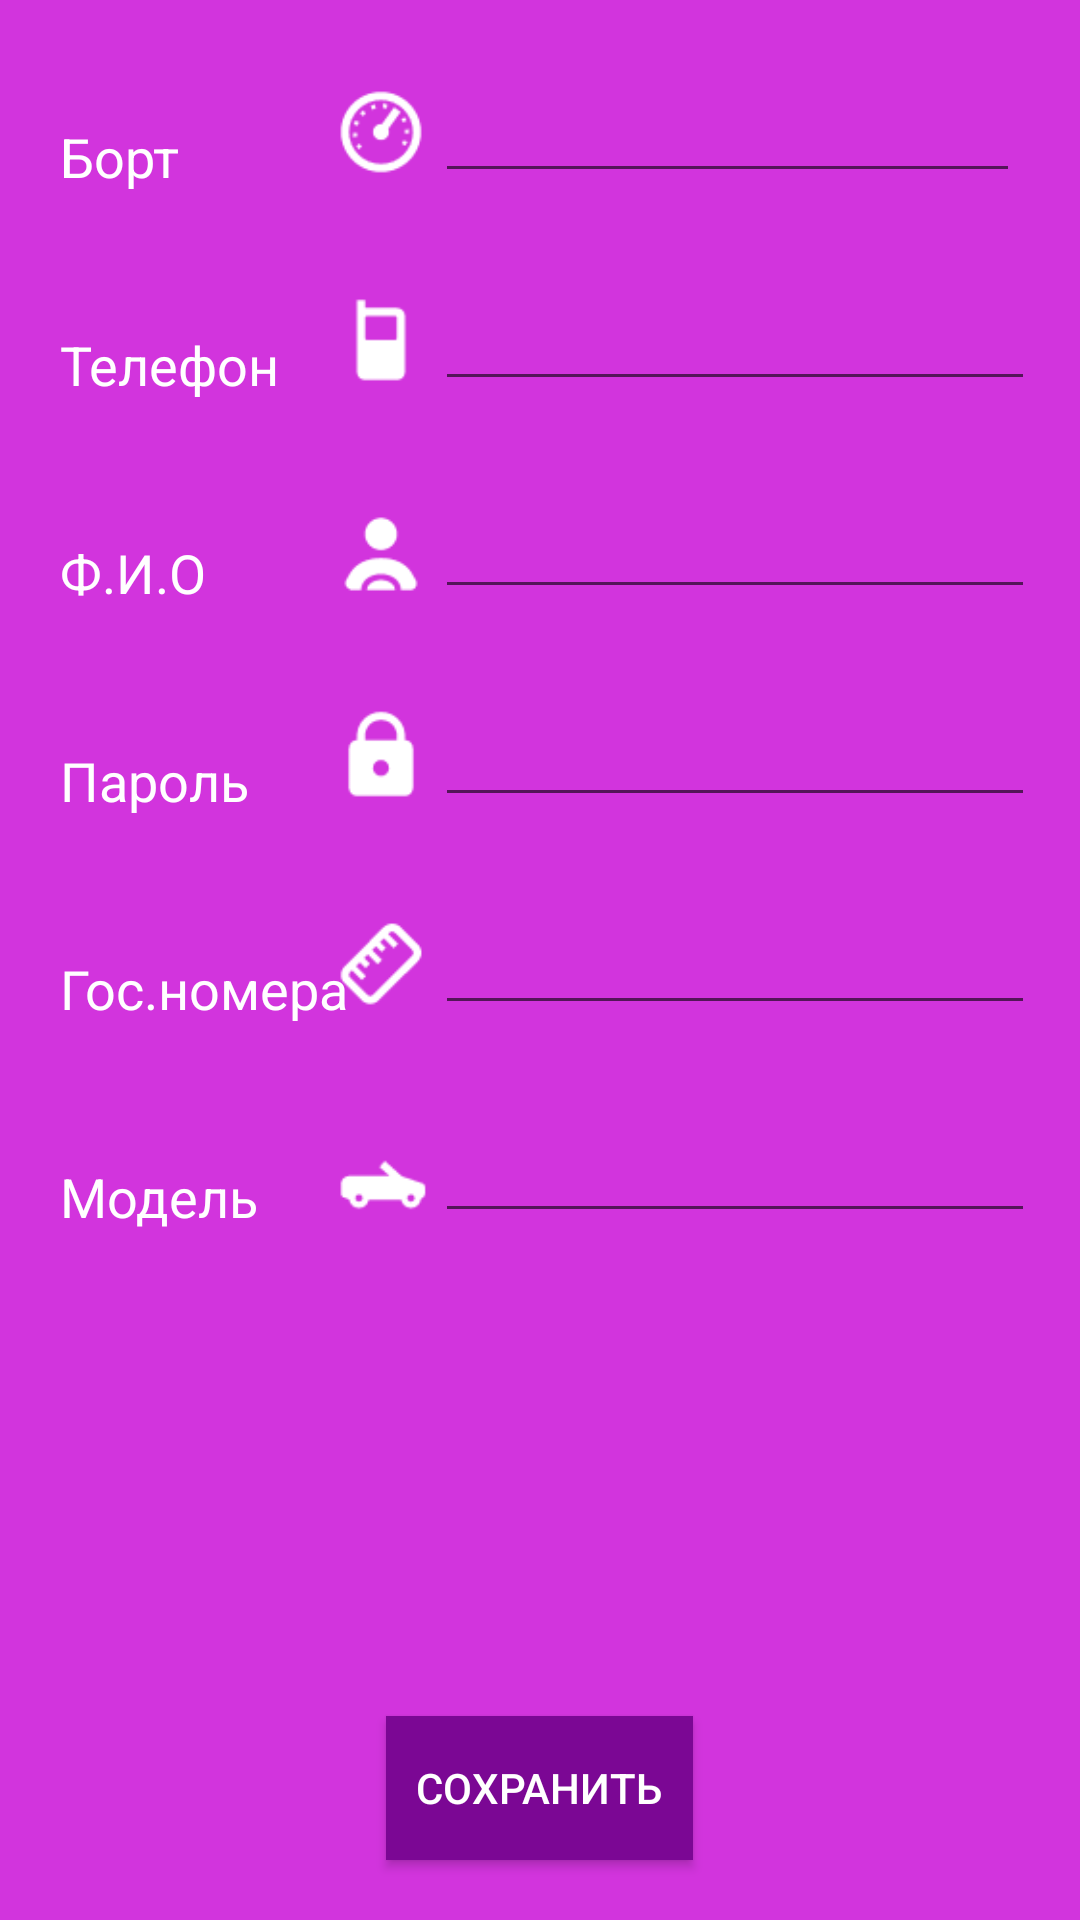

Screen size 1080*1920. Icon name, then its box in pixels as [x1=x1, y1=y1, x2=x2, y2=y2]:
cell: [x1=356, y1=299, x2=406, y2=381]
iboard: [x1=340, y1=91, x2=422, y2=173]
icar: [x1=340, y1=1160, x2=426, y2=1209]
idriver: [x1=344, y1=517, x2=418, y2=591]
ipass: [x1=348, y1=711, x2=414, y2=797]
